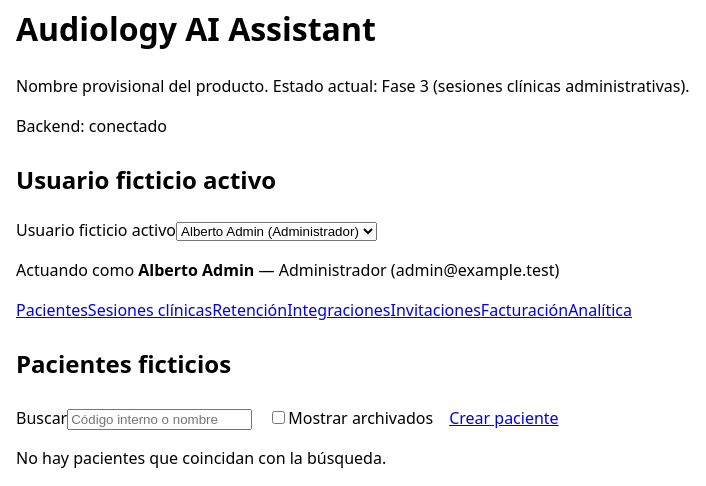
Test: Routing de la aplicación › cambiar de usuario ficticio sigue funcionando con el router activo
The width and height of the screenshot is (706, 486).
Check: the text "No hay pacientes que coincidan con la búsqueda." is shown, box [16, 447, 386, 469]
Select "Vera Viewer (Solo lectura)" in the dropdown labelled "Usuario ficticio activo" at (276, 232), box [176, 222, 377, 241]
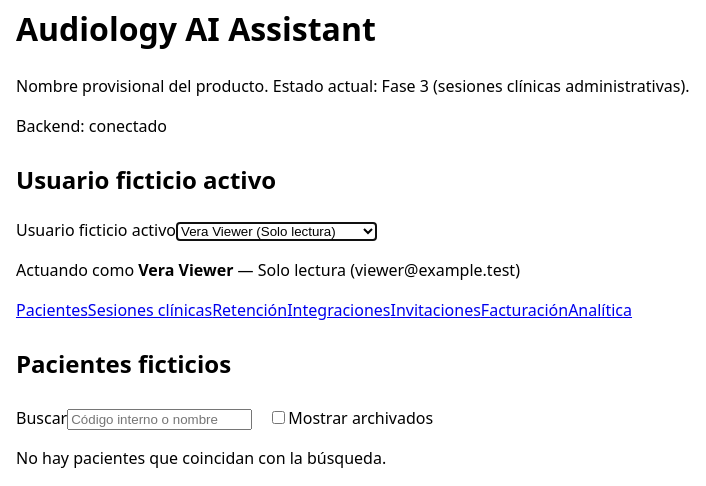
Check: the element with test id "current-user-summary" shows "Vera Viewer", box [138, 259, 233, 281]
